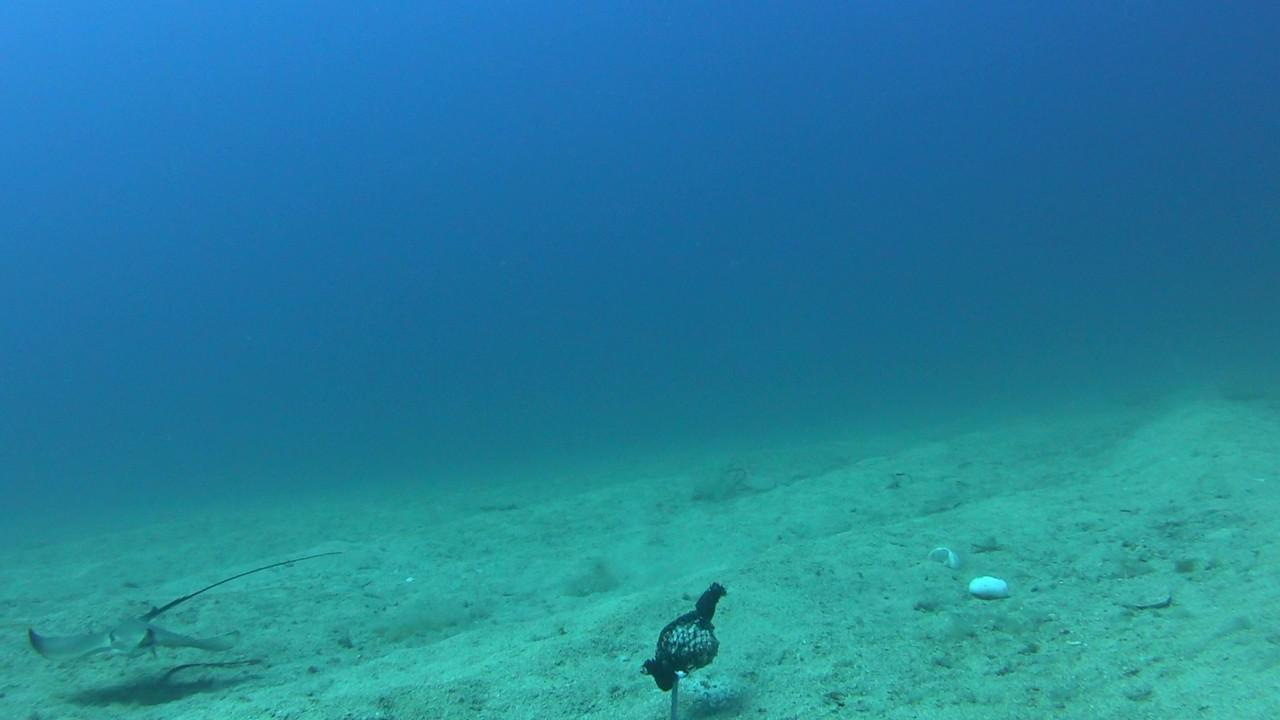myliobatis: (18, 543, 359, 674)
